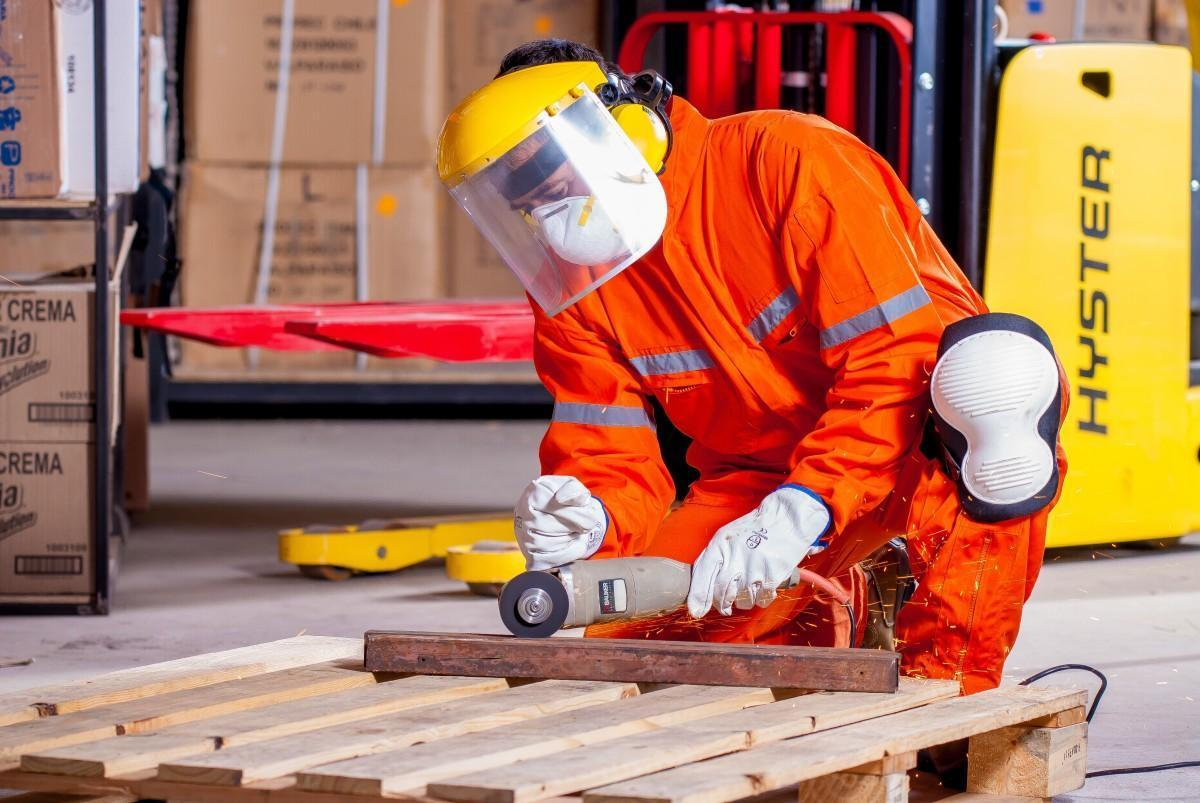vest: (500, 98, 942, 501)
